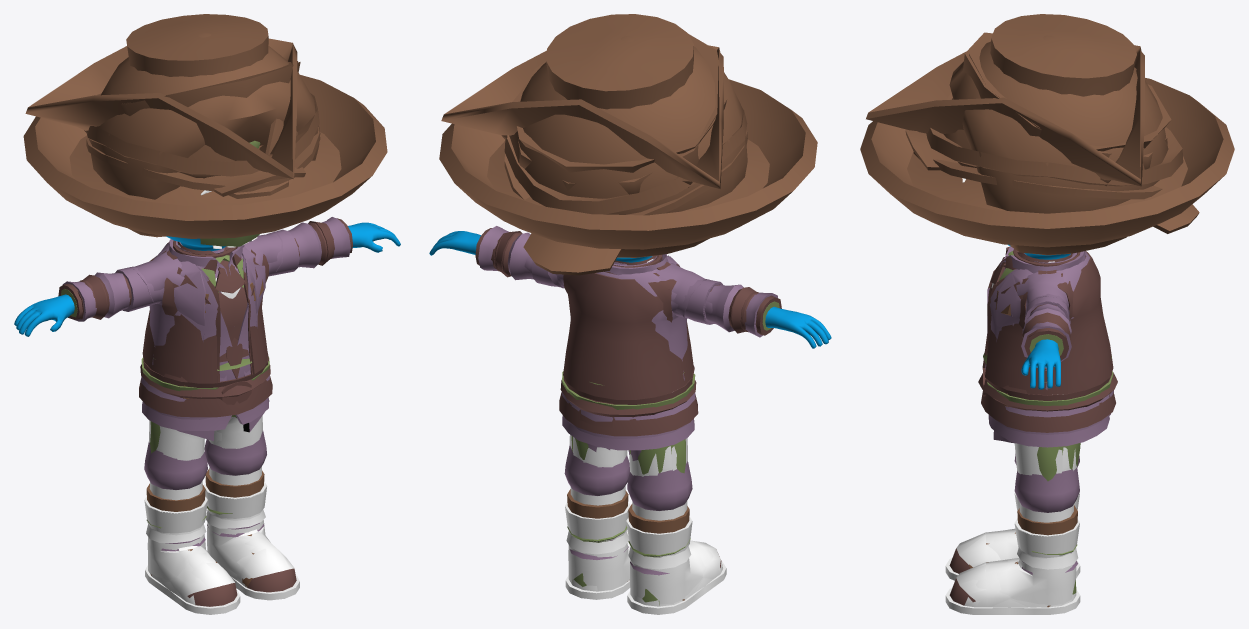
The model's file is StickmanCharacter (1).fbx.
The picture shows the model from 3 angles, left to right: view 1: azimuth 30°, elevation 25°; view 2: azimuth 150°, elevation 25°; view 3: azimuth 270°, elevation 25°; orthographic projection. The views are drawn at different scales.
Visible parts, largest first — view 1: polySurface4, sac1, sapka12, sapka6, kiyafet18, ust9, ust, polySurface6, alt13, ayak8, ayak17, sapka (×2) (+24 smaller); view 2: polySurface4, sac1, sapka12, ust9, sapka6, kiyafet18, ayak8, sapka (×2), ayak4, sapka10, ust17, polySurface7 (+20 smaller); view 3: polySurface4, sac1, sapka12, sapka6, ust9, ayak8, kiyafet18, ust10, ust17, sapka (×2), ust4, sapka8 (+21 smaller).
Boxes of the visible parts, bbox=[...] form: polySurface4: bbox=[23, 75, 387, 238]; sac1: bbox=[89, 33, 320, 237]; sapka12: bbox=[87, 14, 319, 176]; sapka6: bbox=[25, 38, 297, 178]; kiyafet18: bbox=[94, 222, 321, 551]; ust9: bbox=[142, 242, 268, 383]; ust: bbox=[149, 241, 257, 380]; polySurface6: bbox=[62, 217, 350, 347]; alt13: bbox=[149, 416, 262, 535]; ayak8: bbox=[147, 520, 270, 587]; ayak17: bbox=[144, 486, 293, 602]; sapka (×2): bbox=[97, 61, 300, 198]; polySurface4: bbox=[439, 79, 817, 249]; sac1: bbox=[510, 36, 747, 257]; sapka12: bbox=[504, 14, 747, 214]; ust9: bbox=[563, 262, 693, 399]; sapka6: bbox=[441, 45, 723, 188]; kiyafet18: bbox=[507, 232, 743, 605]; ayak8: bbox=[568, 541, 706, 604]; sapka (×2): bbox=[512, 34, 727, 194]; ayak4: bbox=[565, 502, 720, 560]; sapka10: bbox=[523, 233, 621, 275]; ust17: bbox=[475, 228, 781, 474]; polySurface7: bbox=[562, 371, 695, 569]; polySurface4: bbox=[860, 78, 1234, 247]; sac1: bbox=[949, 35, 1168, 255]; sapka12: bbox=[926, 14, 1183, 186]; sapka6: bbox=[866, 45, 1144, 186]; ust9: bbox=[985, 251, 1113, 394]; ayak8: bbox=[989, 528, 1076, 605]; kiyafet18: bbox=[1003, 254, 1079, 594]; ust10: bbox=[981, 303, 1115, 432]; ust17: bbox=[1016, 271, 1080, 481]; sapka (×2): bbox=[913, 32, 1171, 169]; ust4: bbox=[988, 246, 1109, 447]; sapka8: bbox=[933, 159, 1162, 199].
Bounding box in the file's own units: 1843 × 2494 × 1539.
